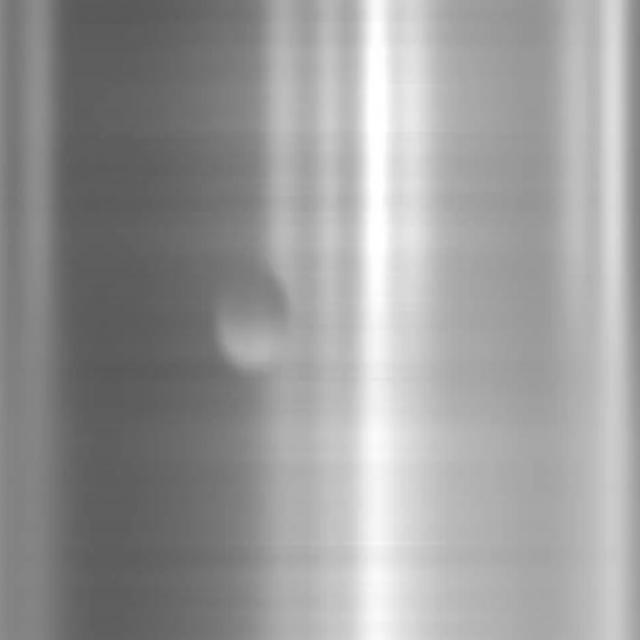dents: (195, 261, 306, 388)
